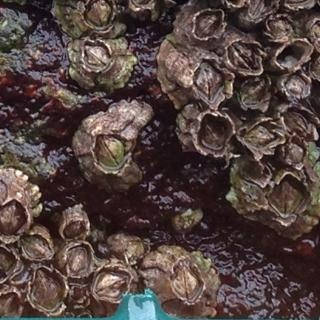Barnacle: (267, 174, 307, 223), (29, 267, 65, 312), (92, 268, 134, 306), (195, 58, 227, 103), (94, 134, 129, 174), (197, 114, 231, 152), (242, 122, 276, 157), (0, 200, 28, 238), (228, 39, 261, 71), (172, 265, 202, 300), (280, 108, 310, 139), (81, 39, 111, 70), (68, 243, 93, 278), (21, 233, 52, 260), (87, 0, 114, 30), (193, 10, 221, 37), (284, 73, 310, 100), (268, 17, 295, 42), (0, 290, 22, 320), (282, 142, 307, 168), (247, 0, 277, 19), (0, 245, 14, 282), (63, 220, 88, 239)
